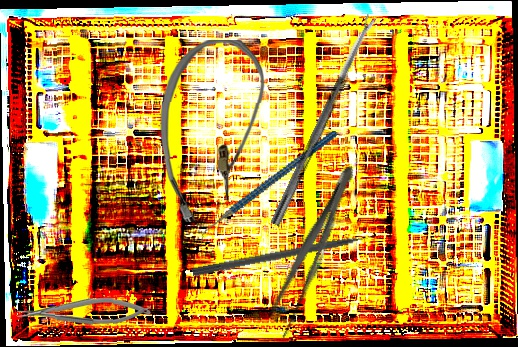Cannula: (158, 39, 267, 223)
Chopper: (179, 130, 357, 247)
Dressing Forceps: (260, 159, 364, 342)
Needle Holder: (16, 295, 152, 327)
Pusher: (191, 230, 386, 279)
Surgical Spoon: (270, 13, 378, 228)
